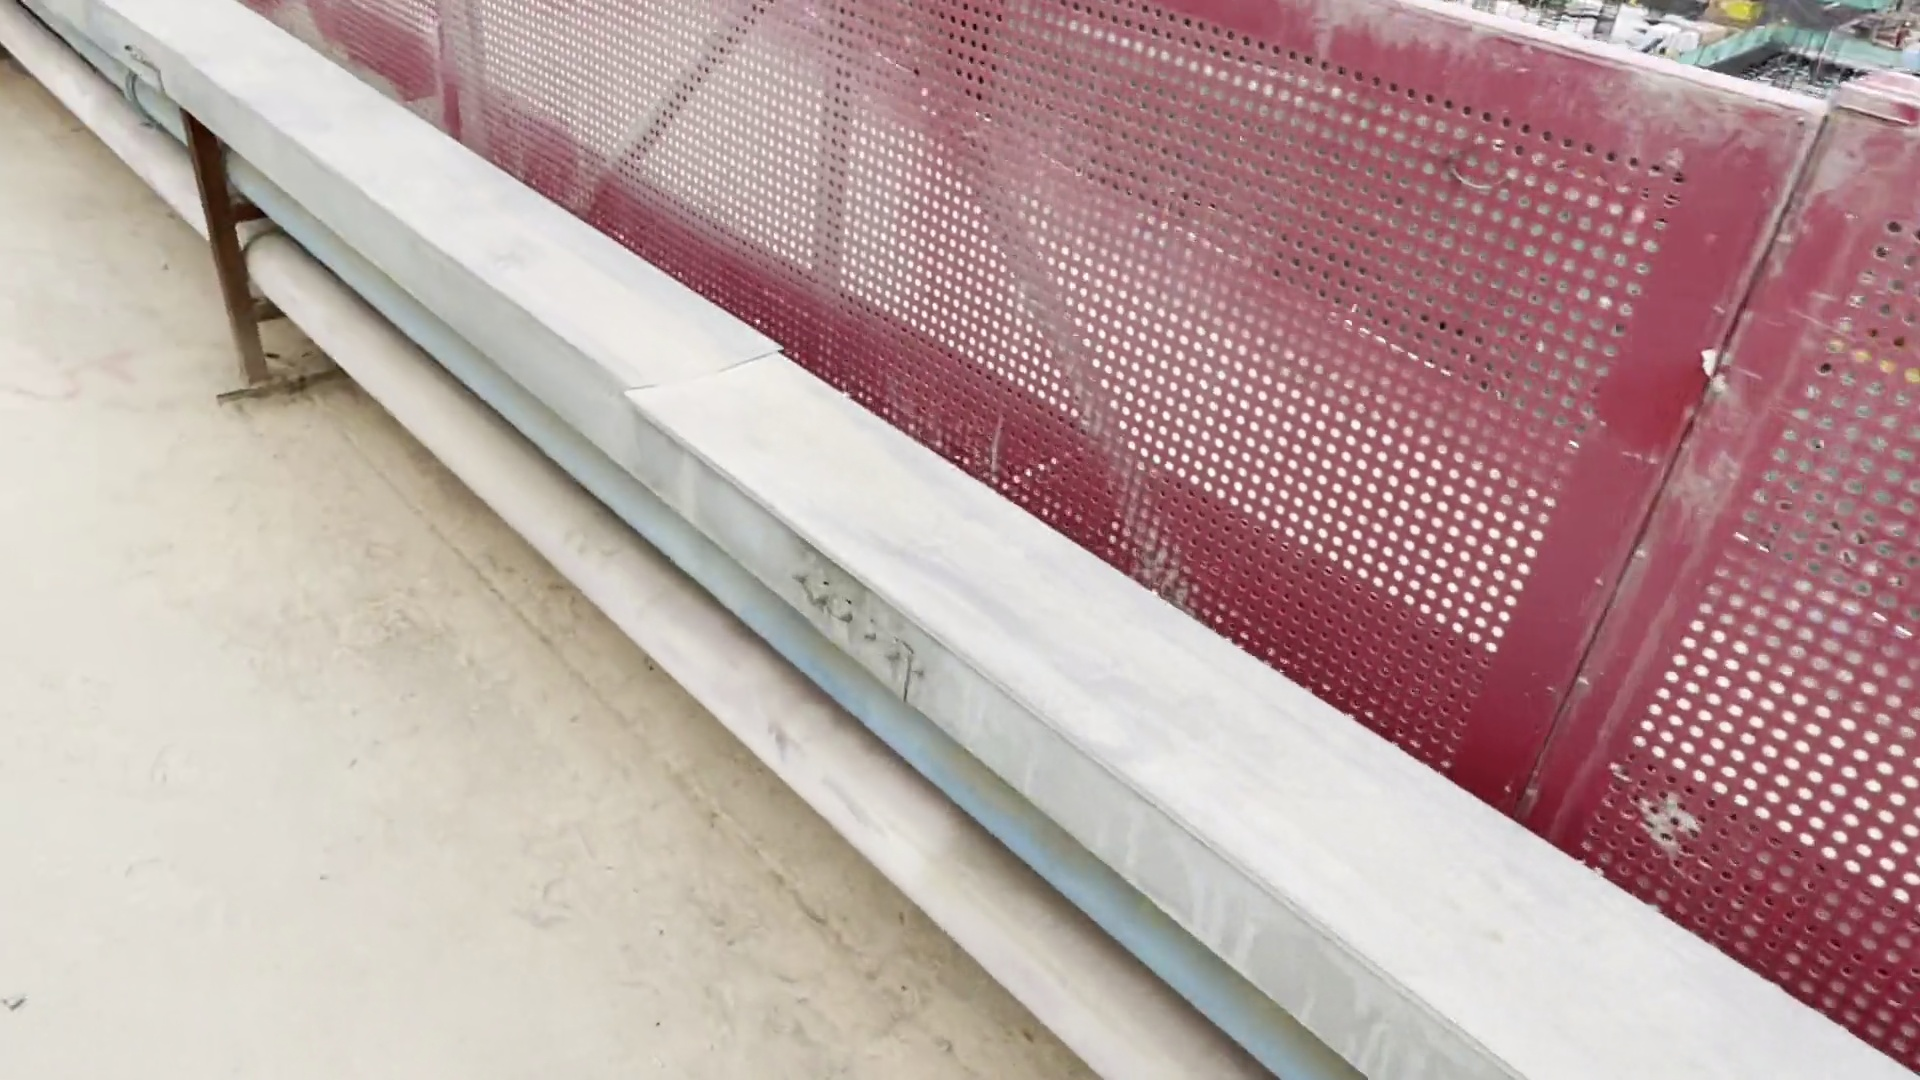fence: (442, 5, 1594, 942), (1602, 98, 1920, 1065)
